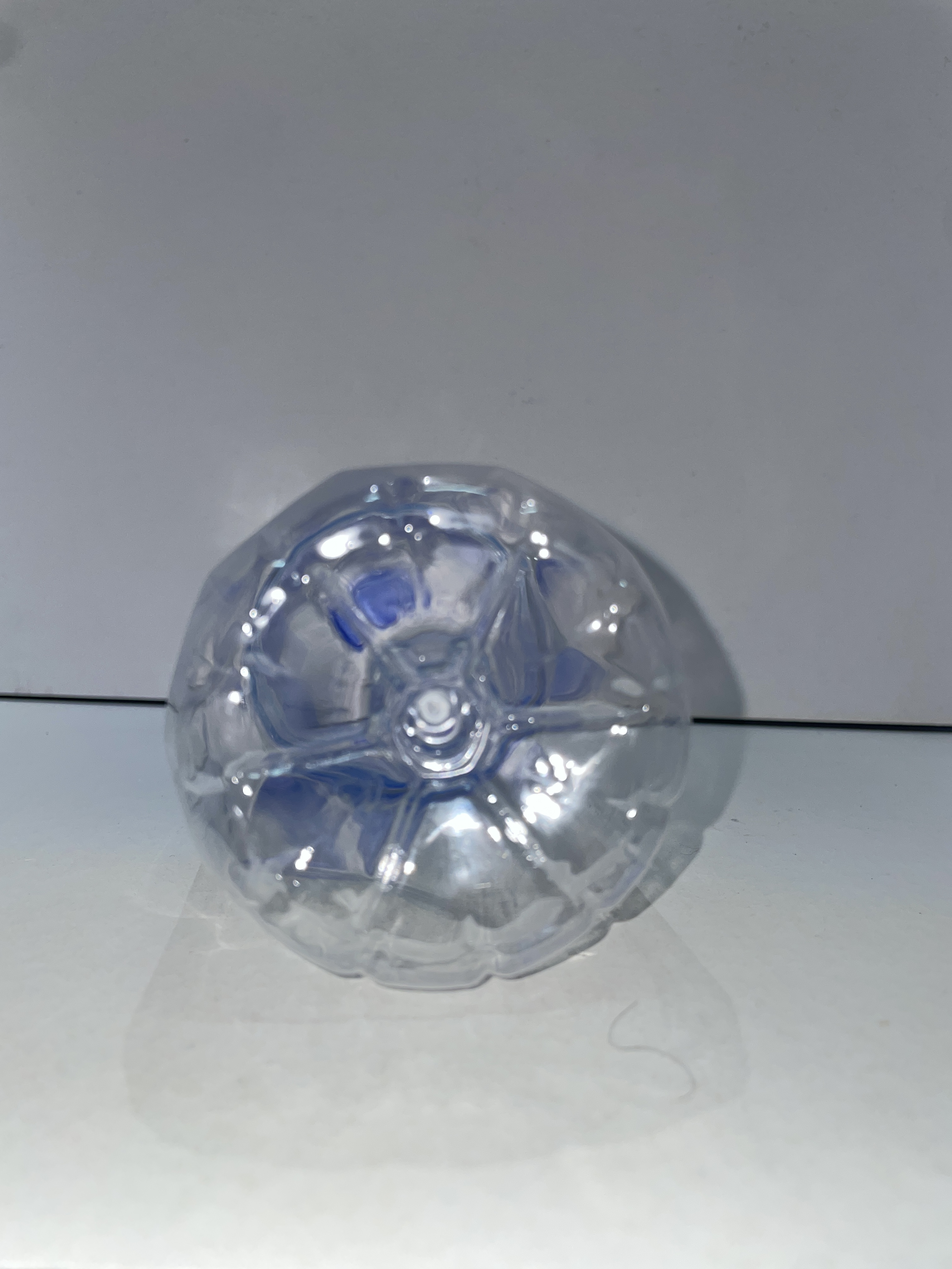Aquaspring 350ml: (168, 464, 689, 989)
